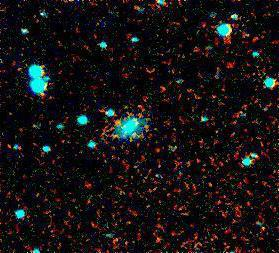star: (21, 79, 51, 109)
